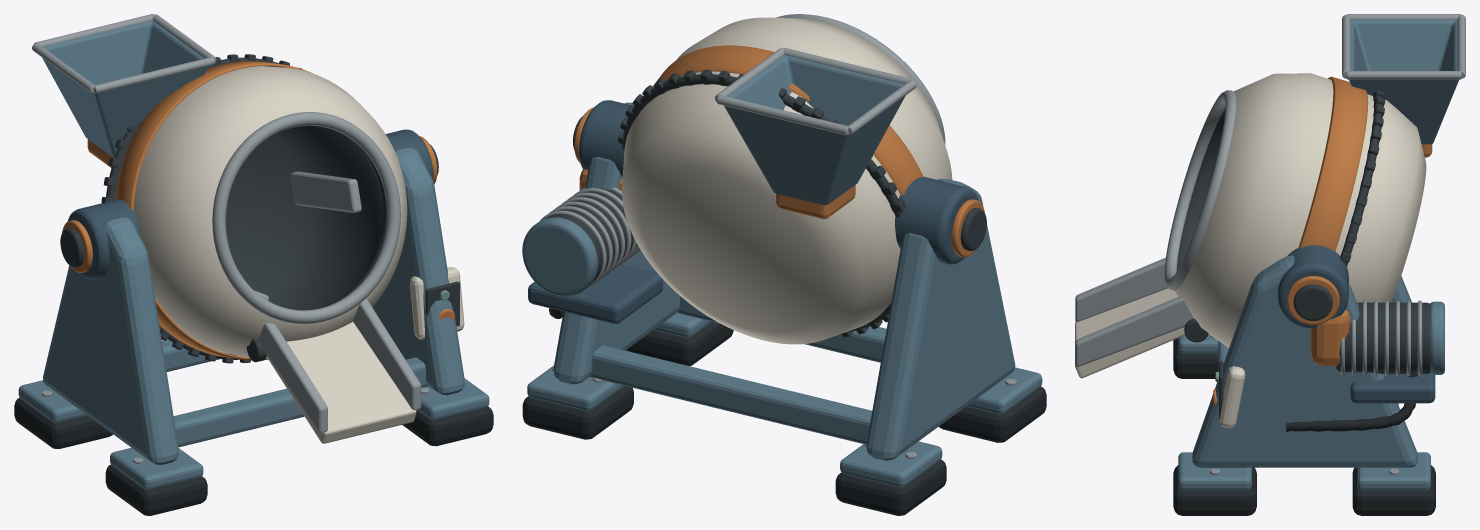
File: cylindrical_mixer.glb
The picture shows the model from 3 angles, left to right: view 1: azimuth 30°, elevation 25°; view 2: azimuth 150°, elevation 25°; view 3: azimuth 270°, elevation 25°; orthographic projection. The views are drawn at different scales.
Visible parts, largest first — view 1: Drum.ThickOpenShell, Frame.SupportCheek.-1, Feed.HollowFunnel, Frame.SupportCheek.+1, Chute.Floor, Drum.FrontLoadingRim, Frame.CrossRail.-0.58, Drum.CopperDriveBand, Frame.Foot.-1.0, Chute.Sidewall.-1, Chute.Sidewall.+1, Frame.Foot.-1.1 (+17 smaller); view 2: Drum.ThickOpenShell, Frame.SupportCheek.-1, Feed.HollowFunnel, Frame.CrossRail.0.7, Frame.SupportCheek.+1, Drive.EndCover, Drive.MotorBracket, Drum.CopperDriveBand, Frame.Trunnion.-1, Frame.Foot.-1.1, Frame.Foot.+1.1, Frame.Foot.-1.0 (+17 smaller); view 3: Drum.ThickOpenShell, Frame.SupportCheek.+1, Feed.HollowFunnel, Drum.CopperDriveBand, Drum.FrontLoadingRim, Drive.MotorBody, Chute.Sidewall.+1, Chute.Floor, Chute.Sidewall.-1, Frame.Trunnion.+1, Frame.Foot.+1.0, Frame.Foot.+1.1 (+16 smaller).
Part boxes in pixels (x1,y1,x2,y2): Drum.ThickOpenShell: (106, 66, 407, 358); Frame.SupportCheek.-1: (43, 217, 178, 464); Feed.HollowFunnel: (42, 20, 207, 157); Frame.SupportCheek.+1: (372, 147, 464, 395); Chute.Floor: (267, 322, 416, 443); Drum.FrontLoadingRim: (212, 112, 400, 323); Frame.CrossRail.-0.58: (173, 357, 427, 447); Drum.CopperDriveBand: (115, 61, 312, 360); Frame.Foot.-1.0: (105, 464, 207, 515); Chute.Sidewall.-1: (259, 323, 327, 432); Chute.Sidewall.+1: (353, 299, 421, 410); Frame.Foot.-1.1: (14, 397, 112, 448); Drum.ThickOpenShell: (622, 17, 952, 344); Frame.SupportCheek.-1: (866, 179, 1015, 460); Feed.HollowFunnel: (724, 55, 905, 205); Frame.CrossRail.0.7: (589, 345, 872, 444); Frame.SupportCheek.+1: (553, 102, 679, 384); Drive.EndCover: (522, 217, 598, 296); Drive.MotorBracket: (528, 264, 662, 323); Drum.CopperDriveBand: (653, 45, 923, 195); Frame.Trunnion.-1: (895, 177, 978, 264); Frame.Foot.-1.1: (835, 459, 946, 515); Frame.Foot.+1.1: (522, 386, 633, 439); Frame.Foot.-1.0: (939, 386, 1046, 442); Drum.ThickOpenShell: (1174, 73, 1426, 347); Frame.SupportCheek.+1: (1192, 255, 1417, 467); Feed.HollowFunnel: (1349, 20, 1458, 144); Drum.CopperDriveBand: (1298, 76, 1368, 251); Drum.FrontLoadingRim: (1164, 90, 1236, 290); Drive.MotorBody: (1335, 302, 1430, 373); Chute.Sidewall.+1: (1075, 296, 1193, 367); Chute.Floor: (1075, 288, 1184, 378); Chute.Sidewall.-1: (1075, 257, 1167, 322); Frame.Trunnion.+1: (1277, 245, 1348, 328); Frame.Foot.+1.0: (1173, 465, 1256, 515); Frame.Foot.+1.1: (1352, 465, 1435, 515).
Size of the model in its own units: 3.33 by 3.19 by 3.19.
